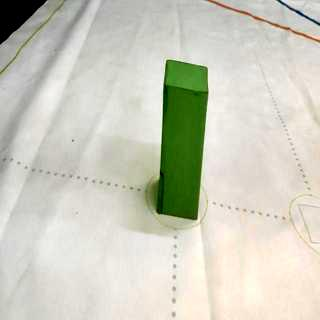greenbox: (161, 59, 207, 221)
